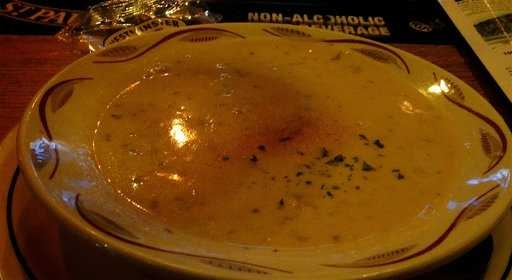soup: (88, 53, 448, 228)
